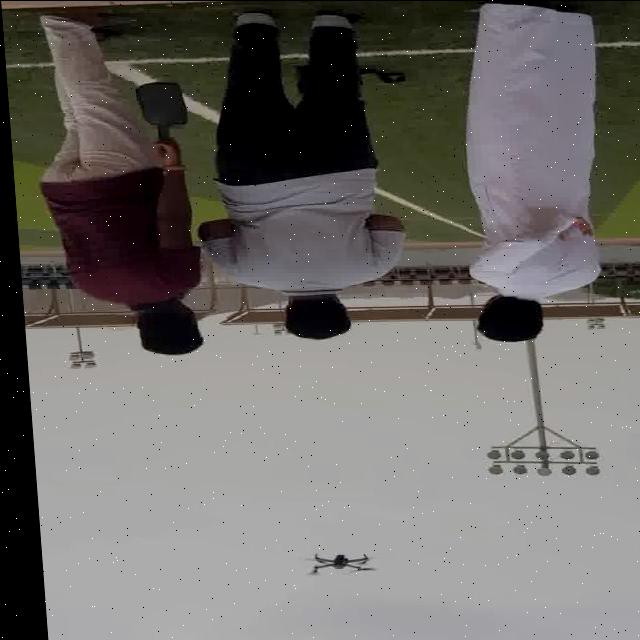drone: (280, 546, 384, 582)
